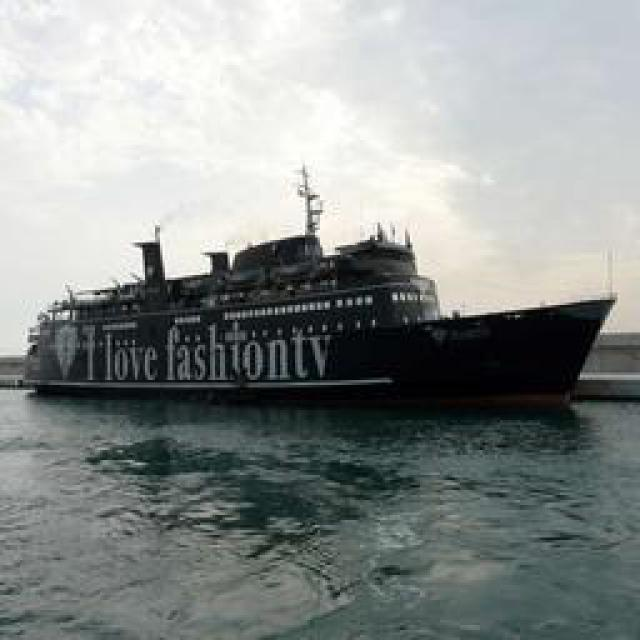Ship: (26, 195, 616, 410)
